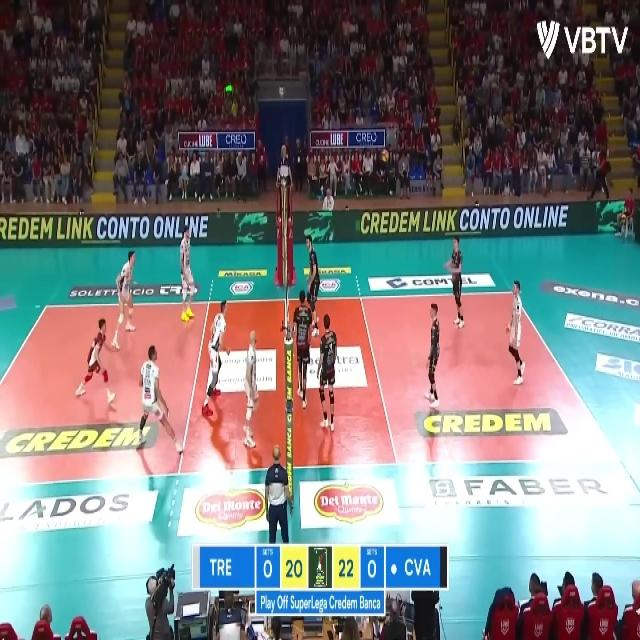volleyball court: (1, 289, 632, 491)
